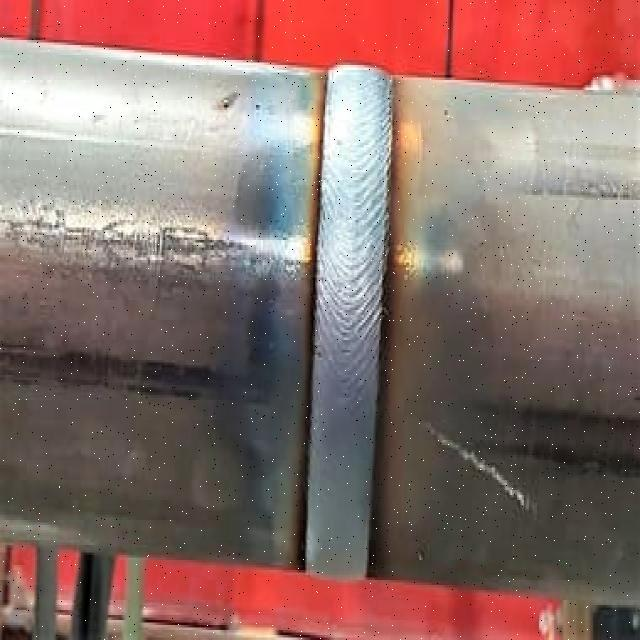Good Welding: (308, 67, 391, 574)
